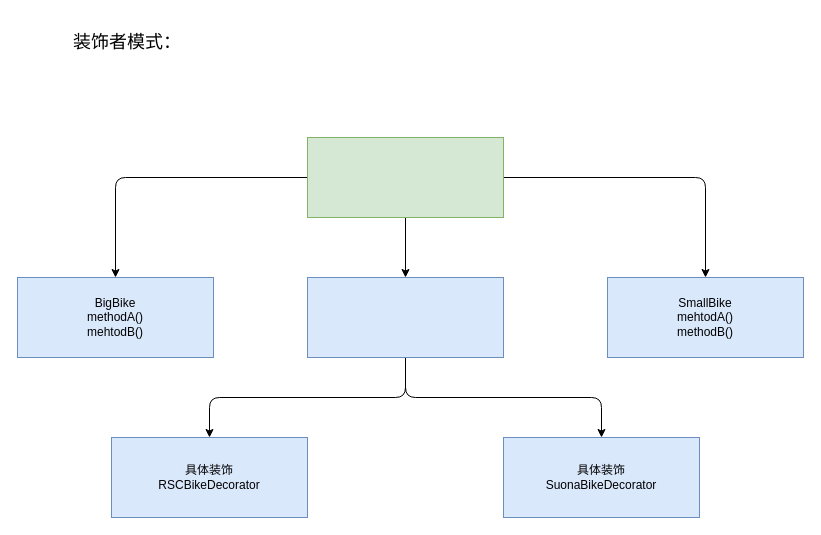
The diagram is 821 pixels wide and 535 high, and some of its shapes have lost their labels. The centre of each missing label's shape, as x and y in pixels:
"Bike methodA() methodB()" goes at [405,177].
"装饰者组件 BikeDecorator" goes at [405,317].
